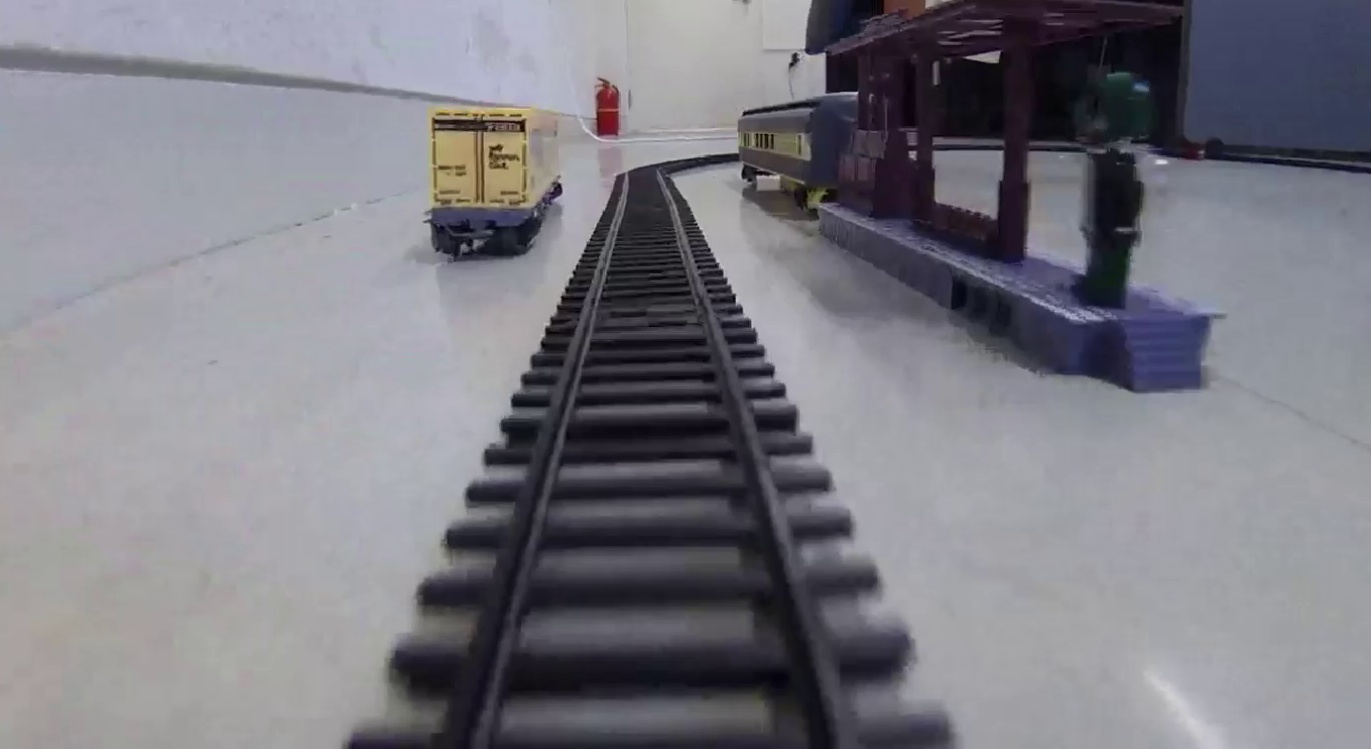people: (1066, 65, 1154, 313)
